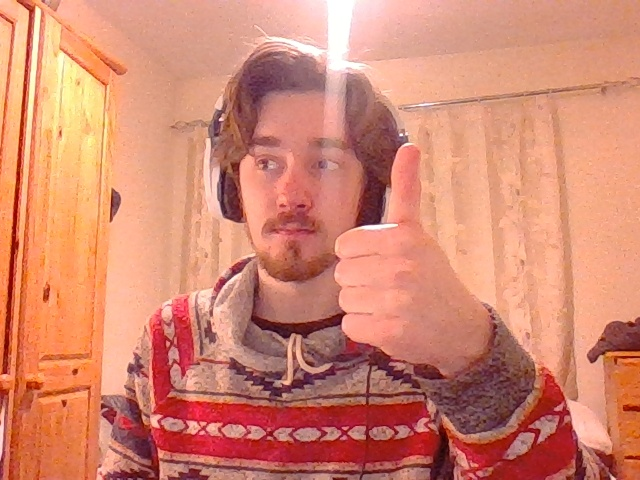good: (333, 143, 485, 362)
